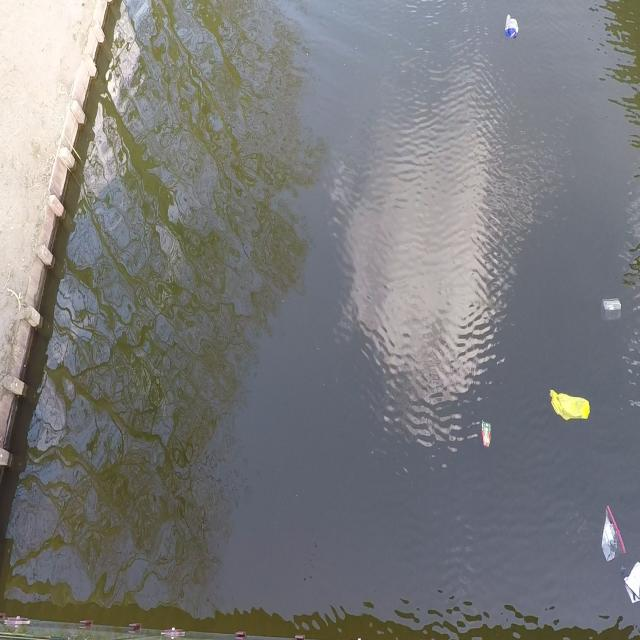Autre plastique: (597, 288, 625, 321), (478, 414, 497, 454)
Sac plastique: (546, 382, 596, 430), (596, 501, 630, 566), (500, 10, 522, 45)
